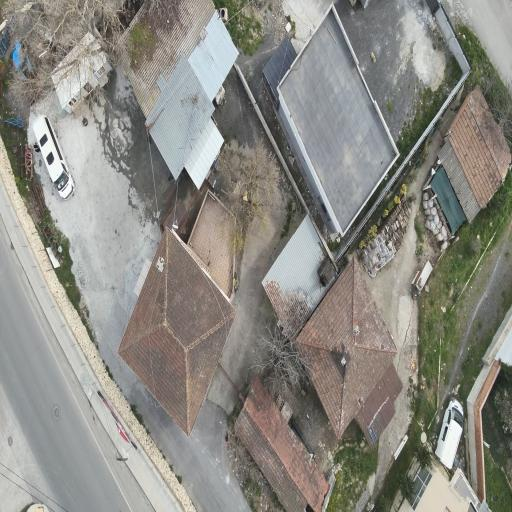car: (32, 115, 73, 198), (434, 397, 462, 467)
